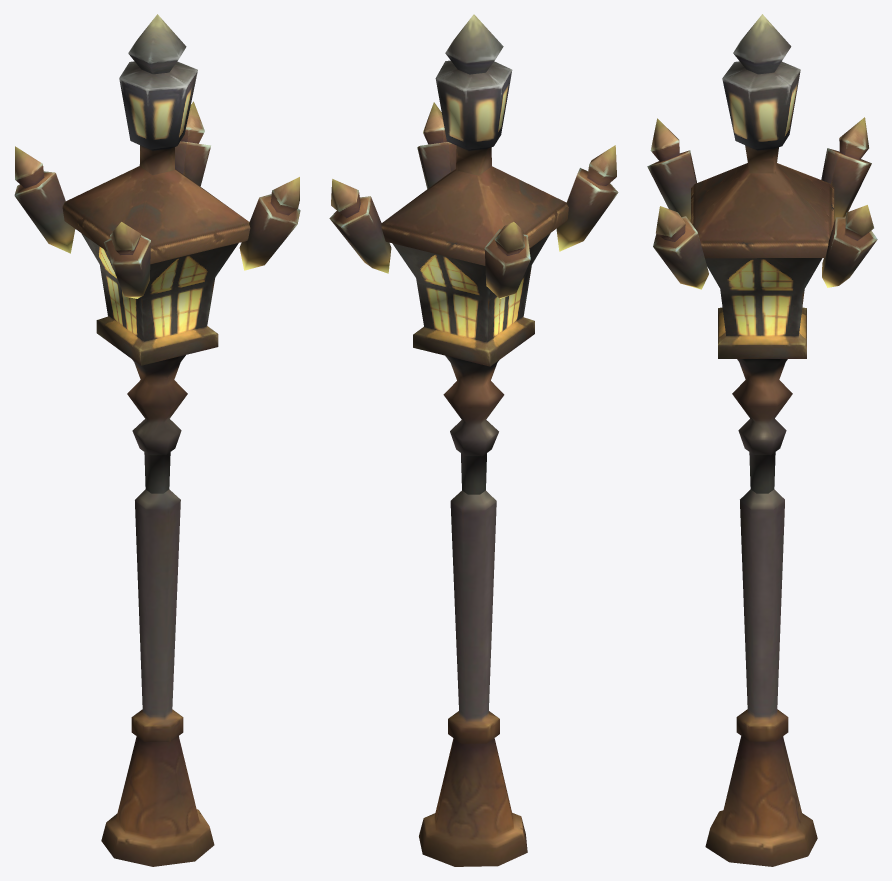
Rendered from zhucheng_d.FBX.
3 views of the same model, side by side, from view 1: azimuth 30°, elevation 25°; view 2: azimuth 150°, elevation 25°; view 3: azimuth 270°, elevation 25° (orthographic).
Parts seen in each view (by area): view 1: zhucheng_d; view 2: zhucheng_d; view 3: zhucheng_d.
Part boxes in pixels (left/top/right/bottom): zhucheng_d: left=14, top=14, right=300, bottom=866; zhucheng_d: left=329, top=14, right=618, bottom=866; zhucheng_d: left=647, top=14, right=877, bottom=866.
Size of the model in its own units: 136 by 136 by 540.
